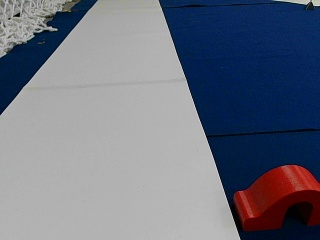bridge: (237, 164, 317, 226)
